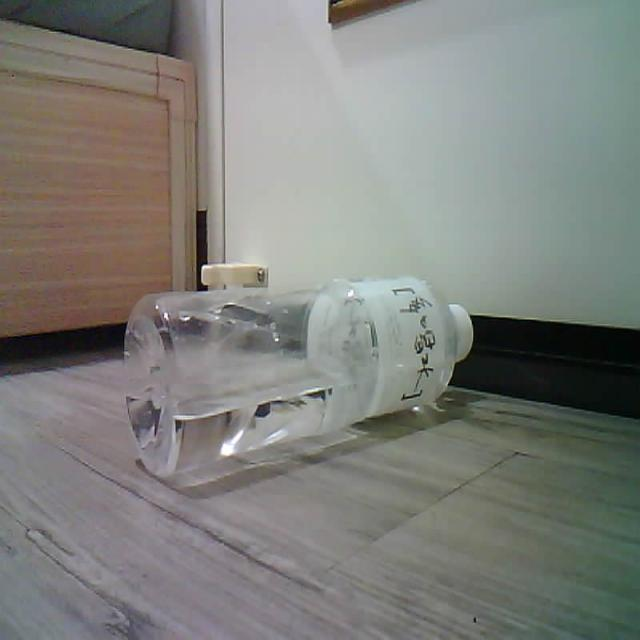bottle: (124, 276, 472, 477)
